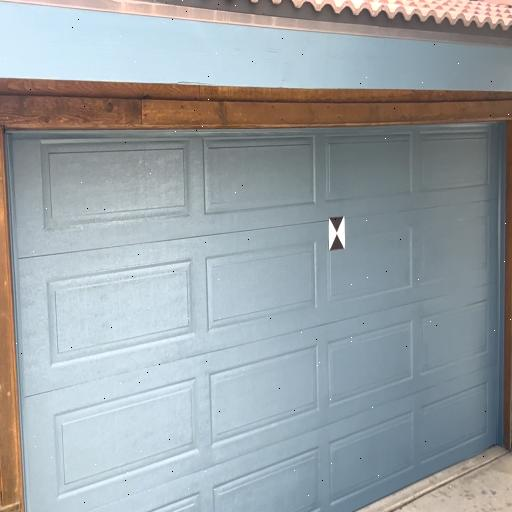target: (329, 218, 345, 250)
